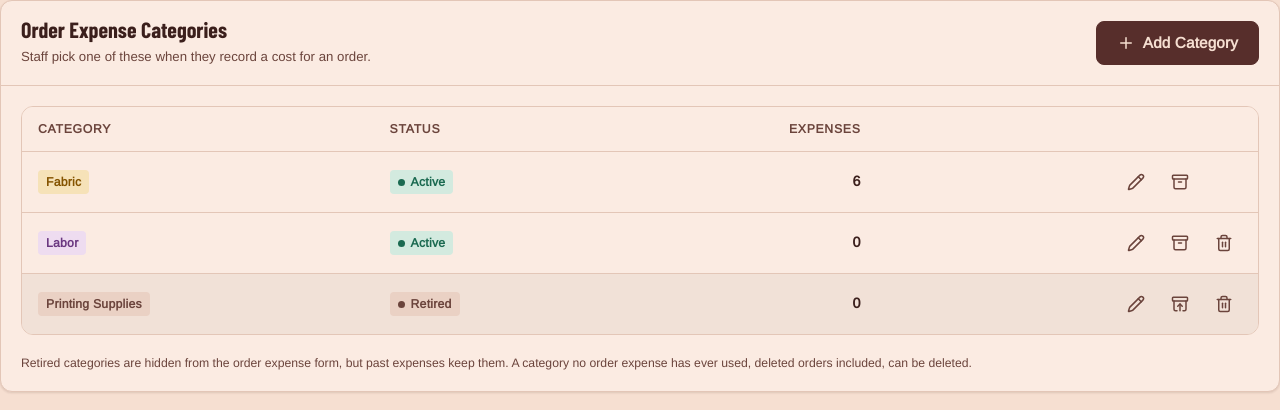
S1 list card: order-expense-categories › retires at once with the per-list toast, flips the row and keeps focus on the flipped action
Expected: the table named "Order expense categories" is shown, [22, 107, 1258, 334]
Click the button named "Retire Labor": (1180, 243) [1162, 225, 1198, 261]
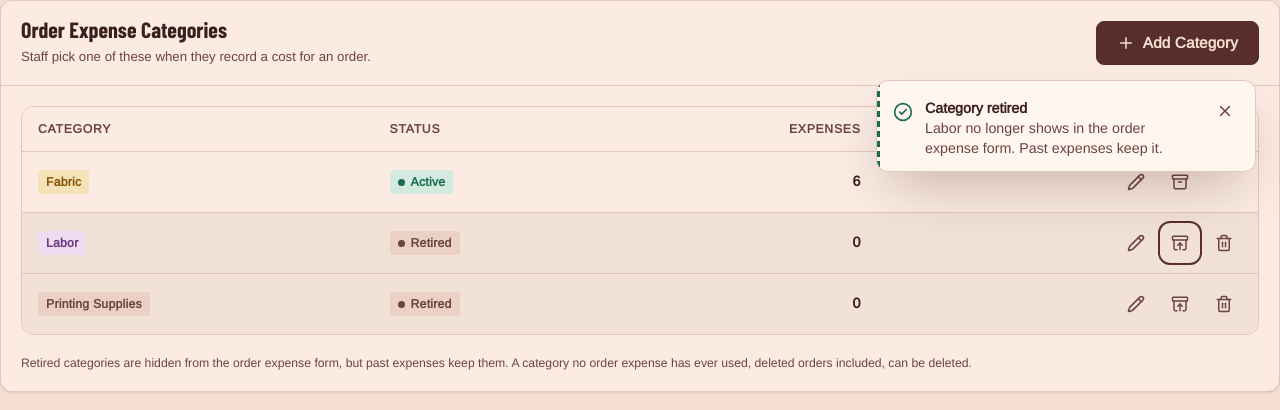
Expected: the text "Retired" is shown, [390, 231, 460, 255]
Expected: the text "Category retired" is shown, [925, 101, 1027, 116]
